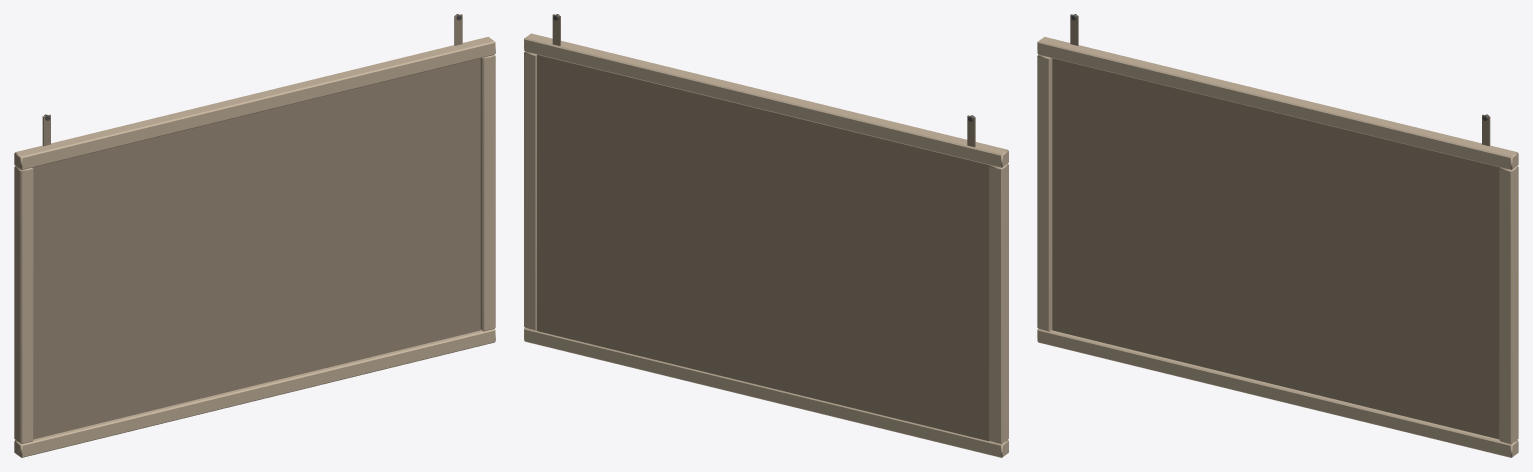
The model's file is cork_board.glb.
3 renders of one model, left to right at view 1: azimuth 30°, elevation 25°; view 2: azimuth 150°, elevation 25°; view 3: azimuth 330°, elevation 25°, orthographic.
Parts seen in each view (by area): view 1: cork_board; view 2: cork_board; view 3: cork_board.
Boxes of the visible parts, x1,y1,x2,y2 form: cork_board: [14, 14, 495, 457]; cork_board: [524, 14, 1008, 457]; cork_board: [1037, 14, 1518, 457].
Bounding box in the file's own units: 1.27 × 0.846 × 0.034.
